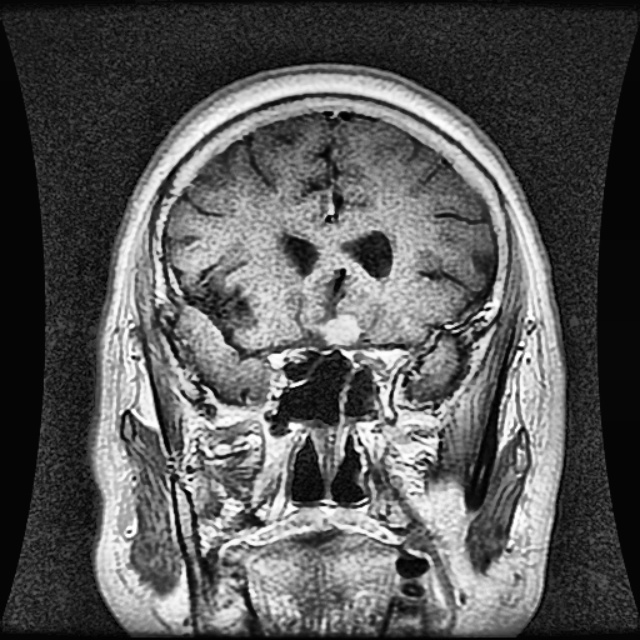Pituitary: (325, 315, 360, 347)
